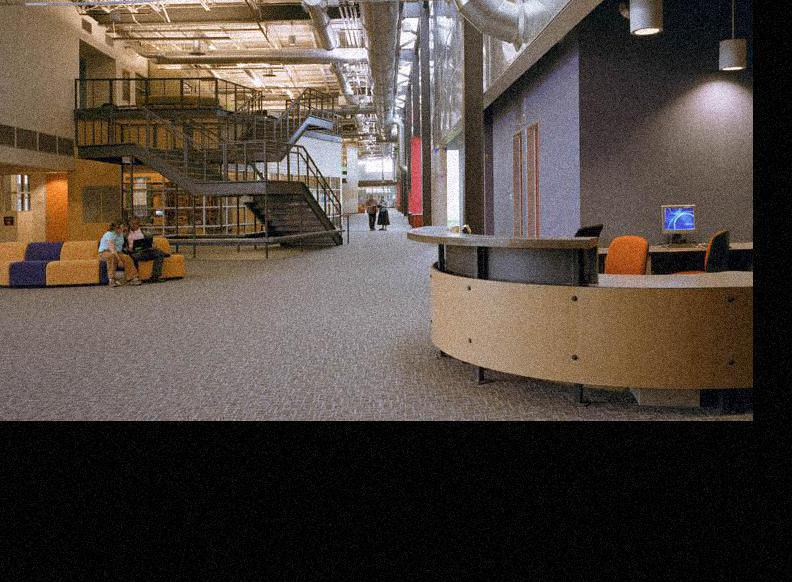Escaleras: (82, 106, 347, 245)
